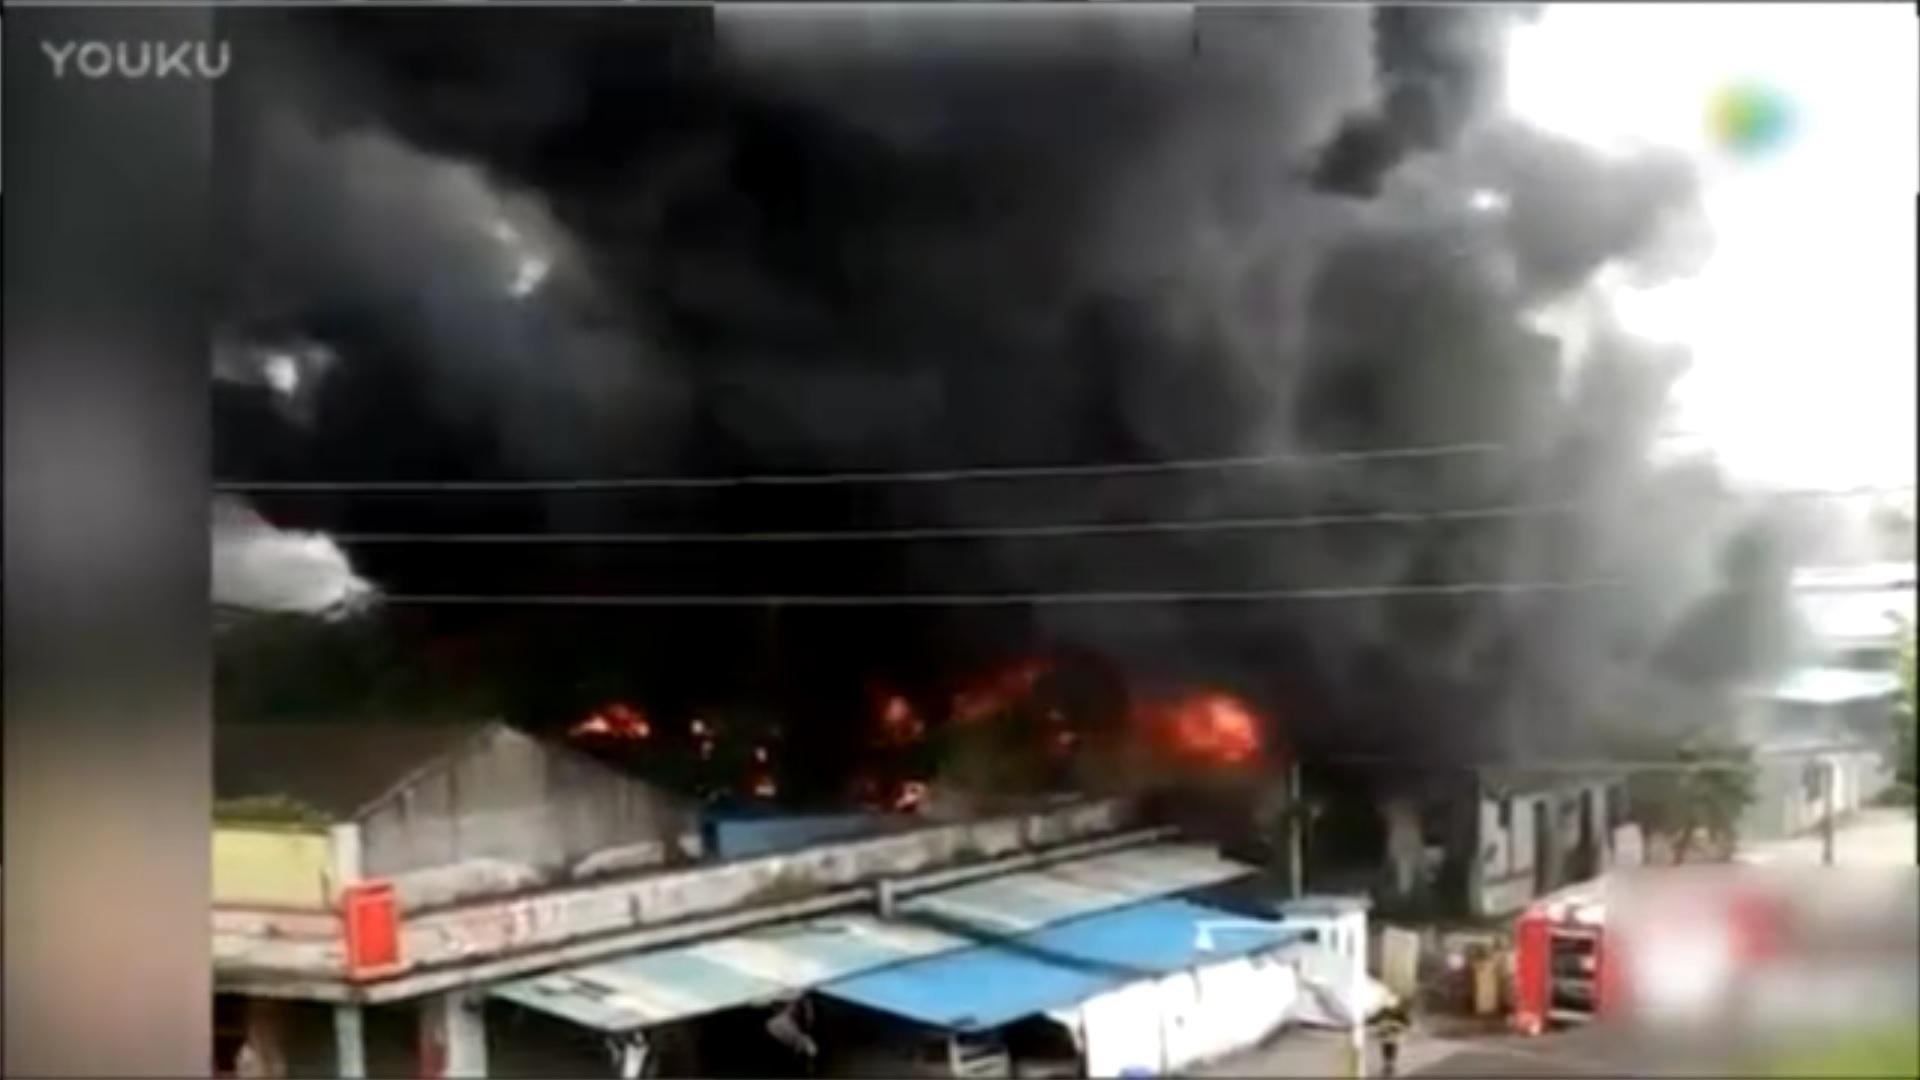fire: (1153, 691, 1265, 760), (952, 662, 1039, 717), (576, 702, 651, 741), (876, 688, 922, 735)
